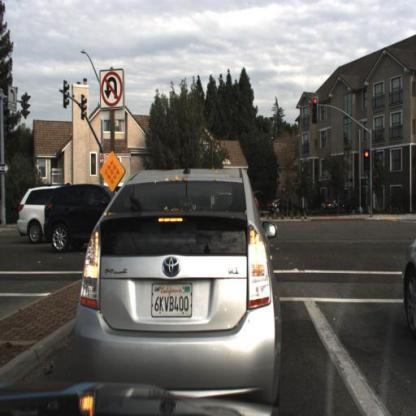car: (68, 155, 283, 397), (44, 183, 115, 256), (18, 180, 94, 248), (398, 217, 416, 350)
trafficLight-Red: (309, 91, 321, 127), (363, 148, 372, 175)
